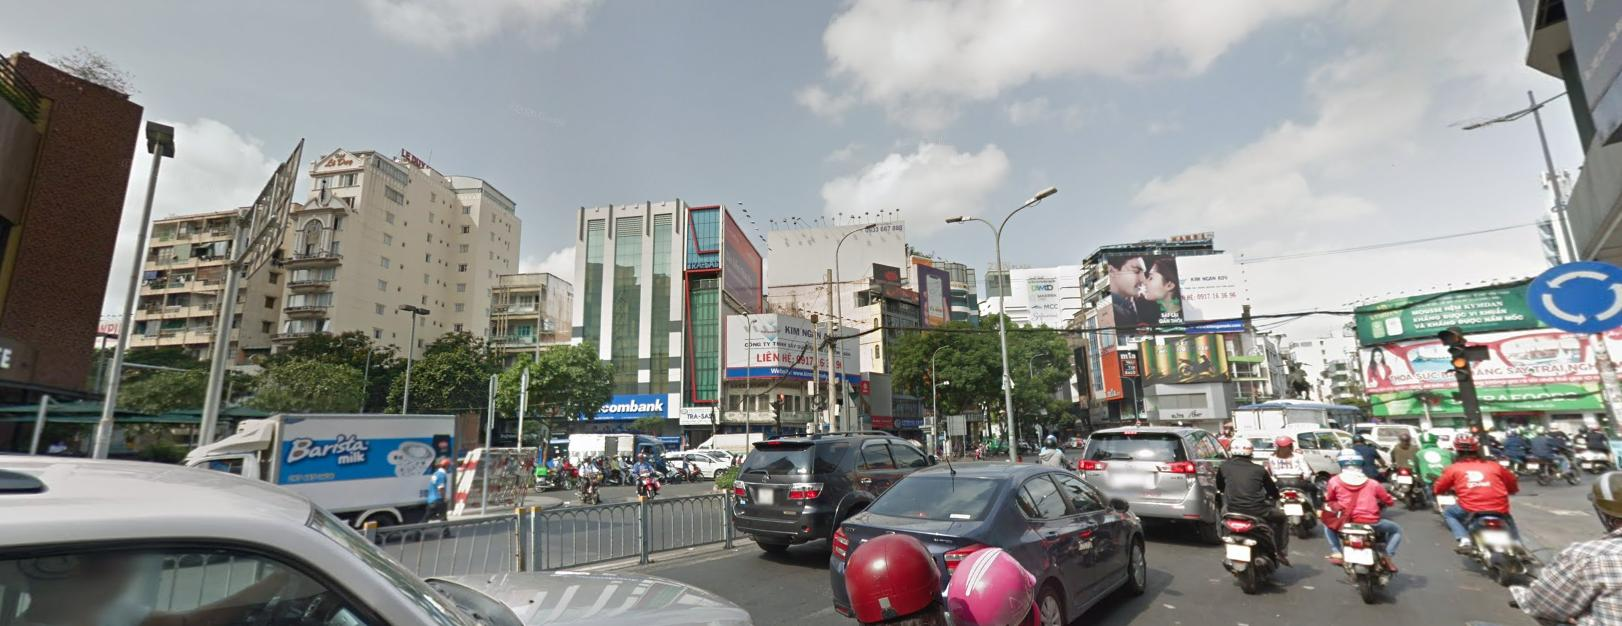Hieu lenh: (1510, 249, 1621, 340)
